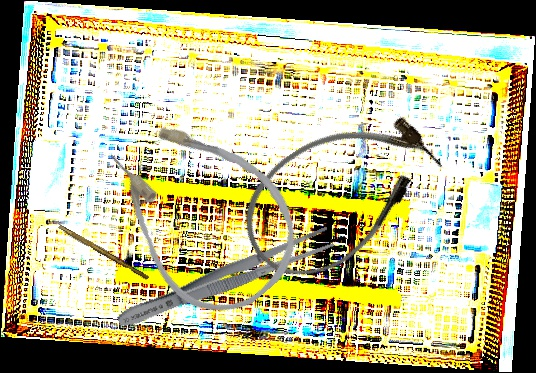Cannula: (79, 86, 325, 338), (220, 87, 459, 301)
Dressing Forceps: (113, 222, 336, 336)
Scalpel Handle: (56, 224, 151, 281)
